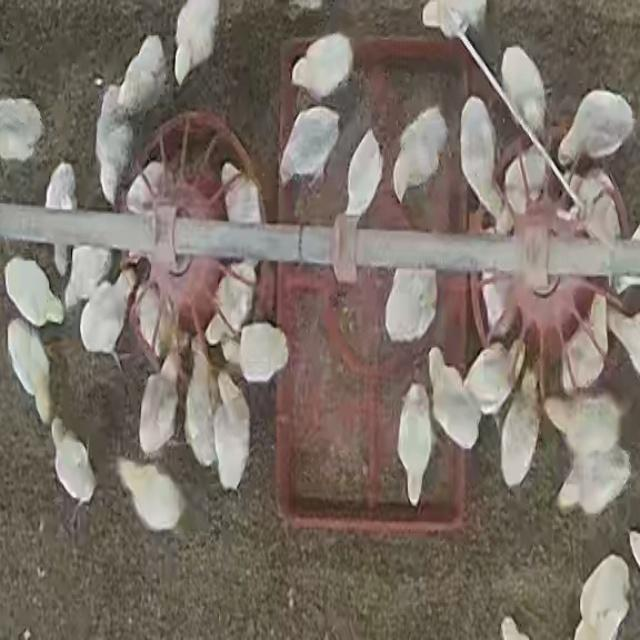chicken: (557, 89, 634, 169), (271, 106, 343, 190), (457, 96, 503, 223), (391, 105, 448, 206), (392, 382, 437, 507), (115, 455, 186, 533), (426, 348, 478, 451), (218, 322, 296, 388), (79, 272, 131, 370), (498, 370, 540, 490), (212, 369, 252, 494), (8, 320, 53, 426), (136, 354, 181, 460), (500, 44, 548, 140), (462, 339, 518, 419), (3, 256, 66, 327), (291, 33, 354, 103), (49, 419, 95, 511), (382, 267, 436, 344), (184, 344, 217, 468), (118, 34, 168, 114), (344, 128, 384, 217), (213, 264, 258, 339), (502, 148, 546, 218), (217, 163, 263, 223), (125, 161, 172, 217)
